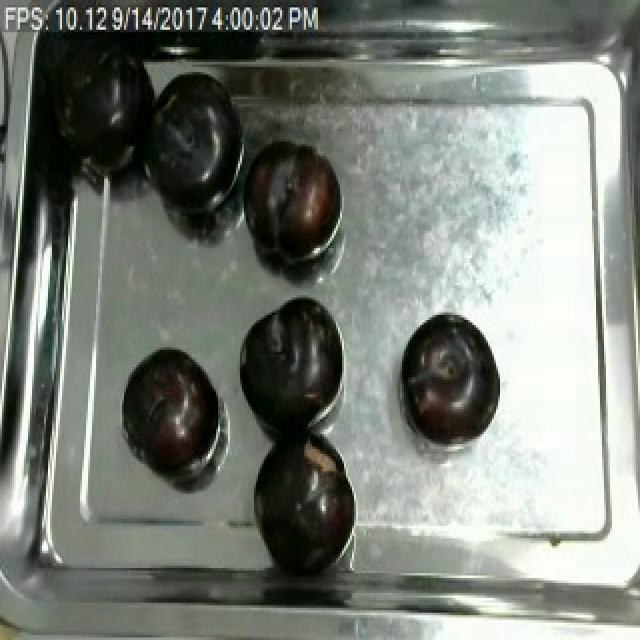Fruit: (134, 69, 242, 221), (232, 290, 342, 434), (398, 310, 504, 452), (120, 342, 224, 477), (252, 439, 358, 568), (244, 136, 342, 268)
